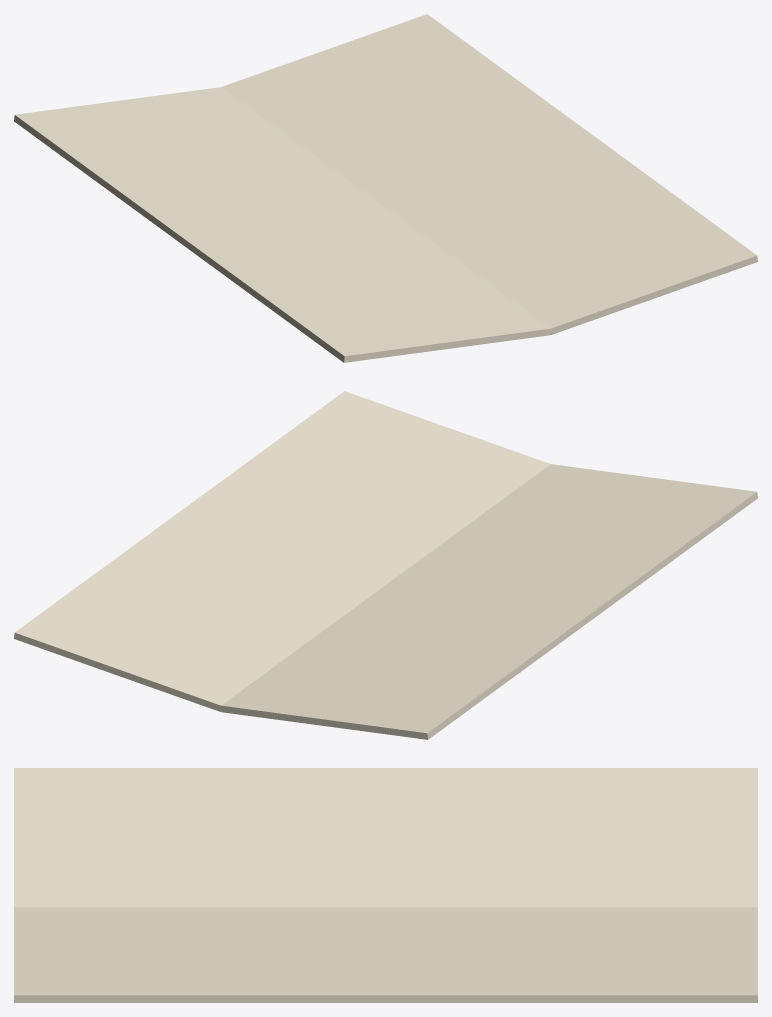
The model's file is Prop_BettingSlip.fbx.
3 renders of one model, top to bottom at view 1: azimuth 30°, elevation 25°; view 2: azimuth 150°, elevation 25°; view 3: azimuth 270°, elevation 25°, orthographic. The views are drawn at different scales.
Parts seen in each view (by area): view 1: BettingSlip_Paper; view 2: BettingSlip_Paper; view 3: BettingSlip_Paper.
Boxes of the visible parts, box(x1,y1,x2,y2) form: BettingSlip_Paper: box(14, 14, 757, 362); BettingSlip_Paper: box(14, 391, 757, 739); BettingSlip_Paper: box(14, 768, 757, 1002).
Bounding box in the file's own units: 0.0797 × 0.00537 × 0.11.
